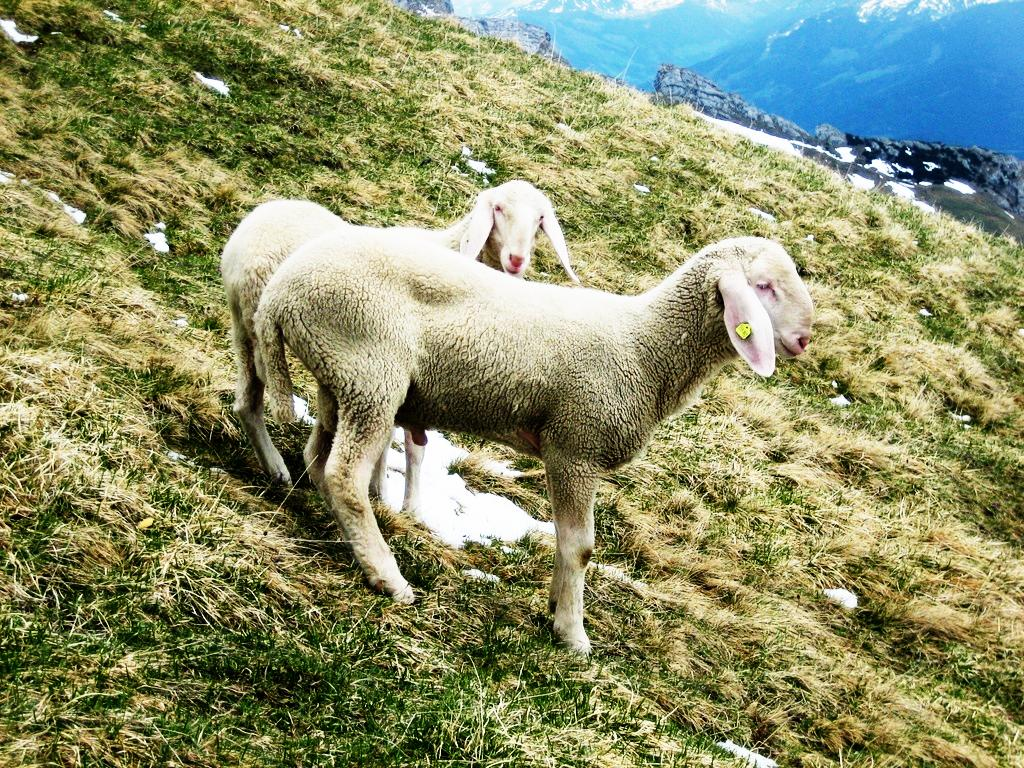Sheep: (251, 232, 811, 654), (214, 178, 580, 526)
